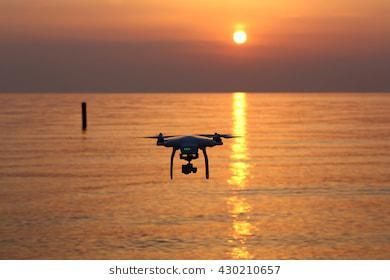drone: (137, 130, 241, 181)
